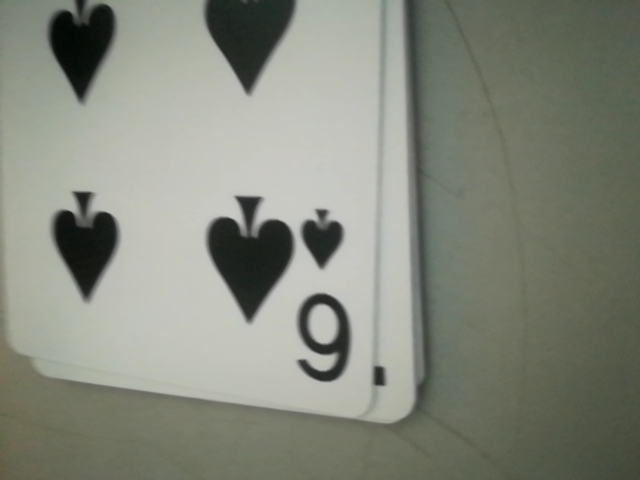ht 6: (290, 198, 368, 392)
